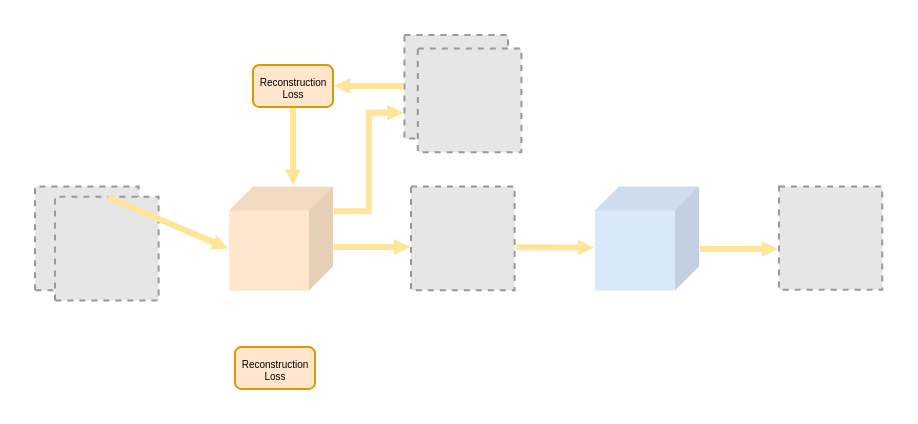
Some shapes in this 918 by 424 pixel diagram are drawn without their labels. Grey dashed boxes stand in for pictures. Here are the shapes that lost their labels. From the top down, the centre of each, then its label:
At pixel 280 238: "Fusion Network".
At pixel 646 238: "Detection Network".
